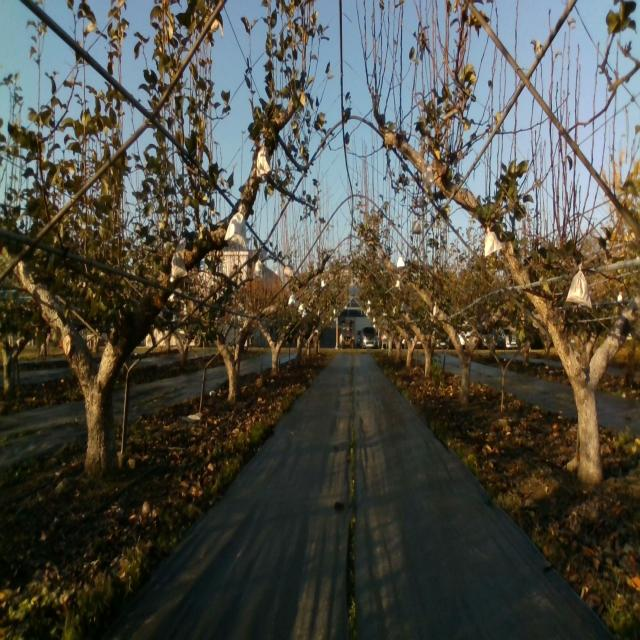pearbags: (566, 260, 592, 310), (224, 204, 248, 252), (168, 250, 188, 284), (484, 225, 504, 258), (256, 142, 270, 178), (421, 162, 435, 191)
